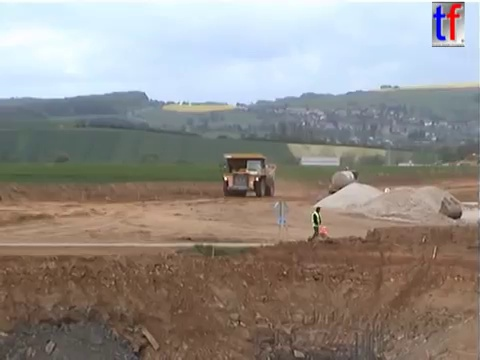truck: (219, 151, 277, 198), (326, 165, 359, 197)
worker: (307, 204, 325, 245)
